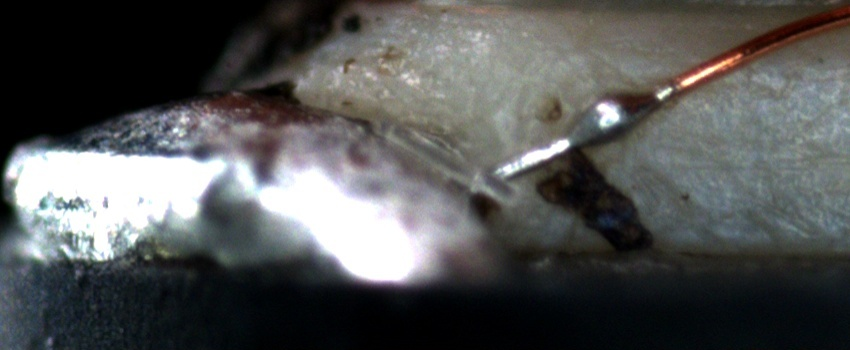DL: (650, 122, 850, 186), (750, 49, 850, 113)
TB: (578, 89, 667, 146)
TS: (495, 82, 677, 179)
TTCW: (475, 51, 723, 187)
